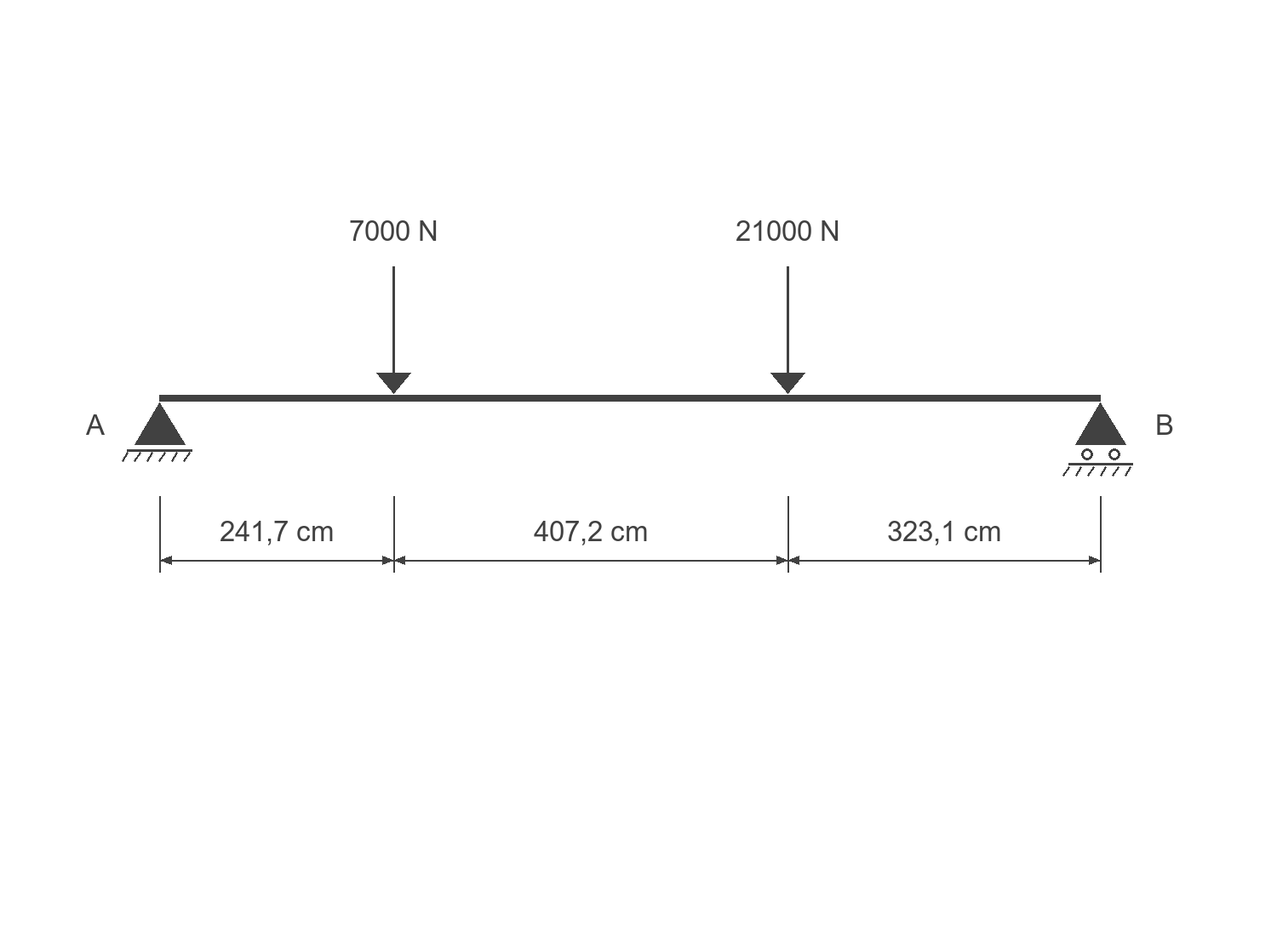pin_support: (122, 402, 192, 462)
point_load: (376, 266, 411, 394), (770, 266, 805, 394)
roller_support: (1062, 402, 1133, 477)
